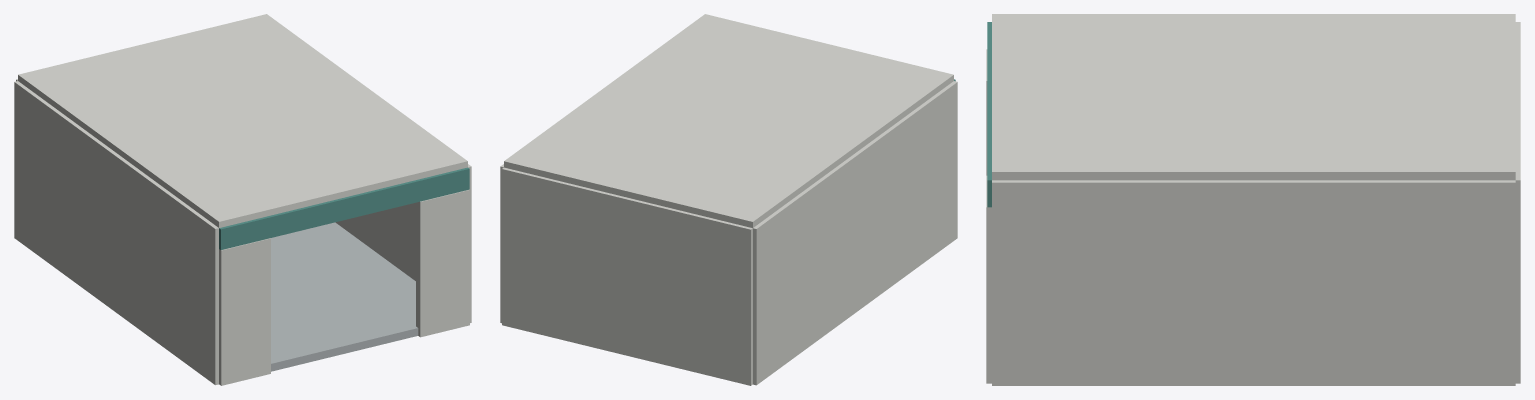
File: grand-prix-circuit-and-open-wheel-pit-garage-bay-e45b4712__15218.glb
The picture shows the model from 3 angles, left to right: view 1: azimuth 30°, elevation 25°; view 2: azimuth 150°, elevation 25°; view 3: azimuth 270°, elevation 25°; orthographic projection. The views are drawn at different scales.
Parts seen in each view (by area): view 1: pit-garage-bay; view 2: pit-garage-bay; view 3: pit-garage-bay.
Part boxes in pixels (x1,y1,x2,y2): pit-garage-bay: (14, 14, 471, 385); pit-garage-bay: (500, 14, 957, 385); pit-garage-bay: (986, 14, 1520, 385).
Bounding box in the file's own units: 5.15 × 3.12 × 7.14.
